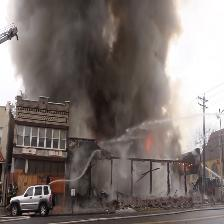smoke: (25, 0, 178, 135)
